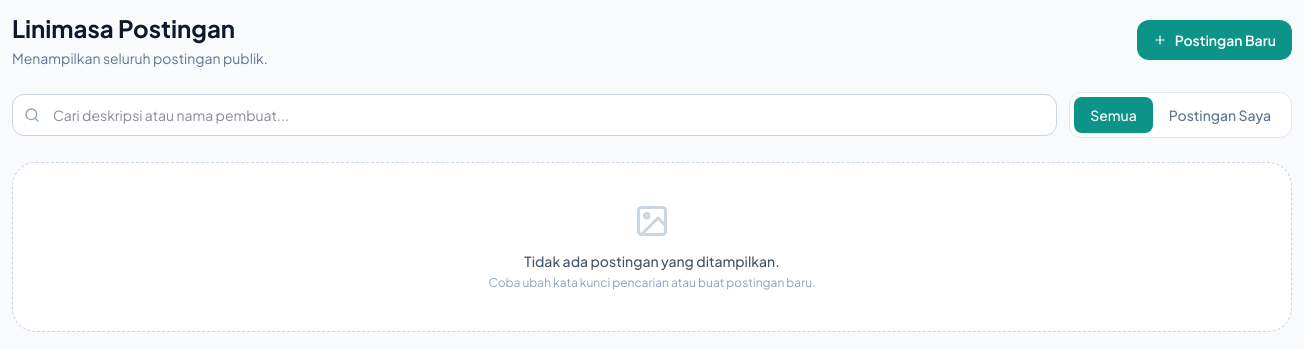
Scenario: HomePage › mengganti filter lewat tab dan memuat ulang postingan
Click the tab "Postingan Saya" at (1220, 115), box left=1153, top=97, right=1287, bottom=133
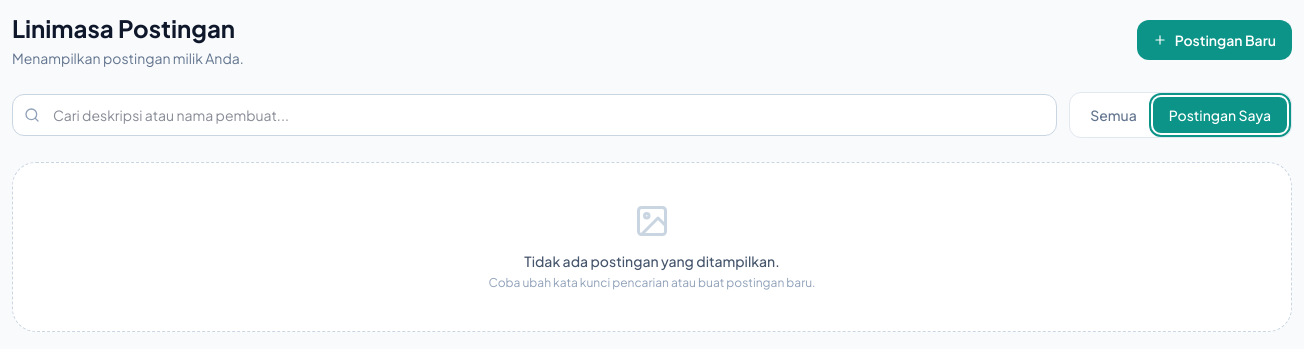
Expected: the text "Menampilkan postingan milik Anda." is shown, left=12, top=48, right=244, bottom=68
Click the tab "Semua" at (1113, 115), box left=1074, top=97, right=1153, bottom=133
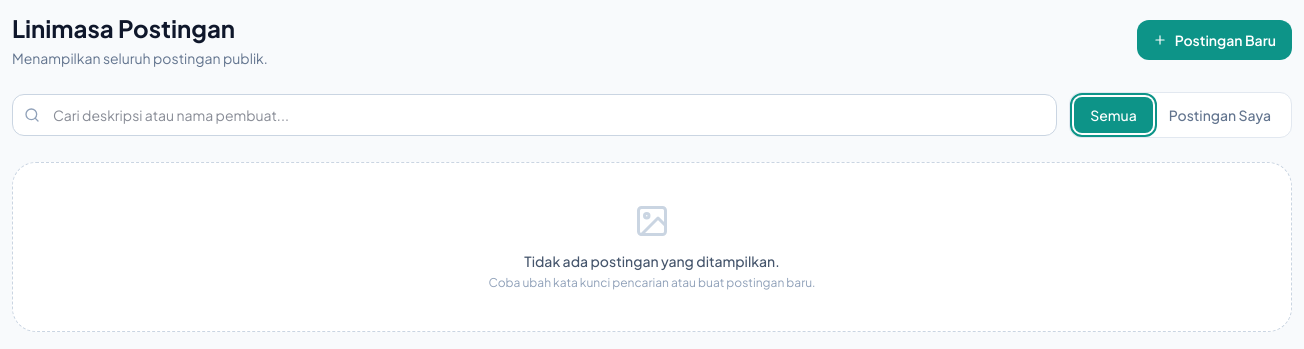
Expected: the text "Menampilkan seluruh postingan publik." is shown, left=12, top=48, right=268, bottom=68
